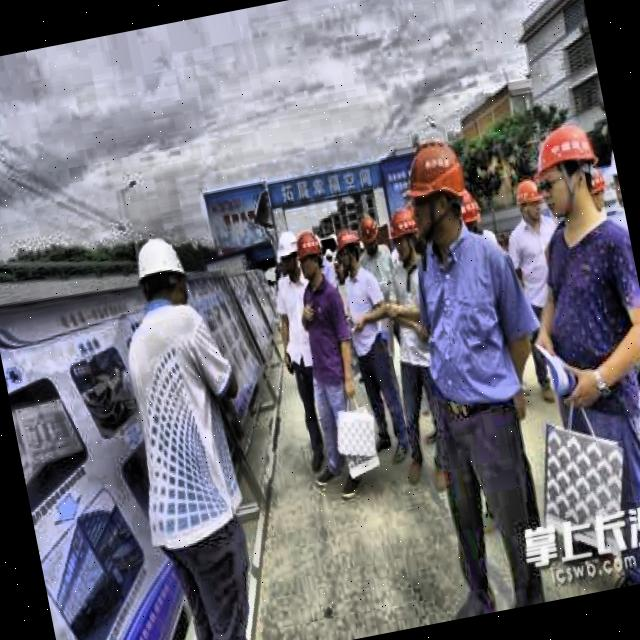helmet: (397, 137, 474, 246), (524, 120, 602, 224), (130, 230, 195, 320), (384, 203, 422, 266), (451, 183, 485, 239), (512, 175, 547, 229), (293, 230, 325, 282), (332, 226, 364, 274), (274, 230, 304, 280), (356, 212, 386, 258)
